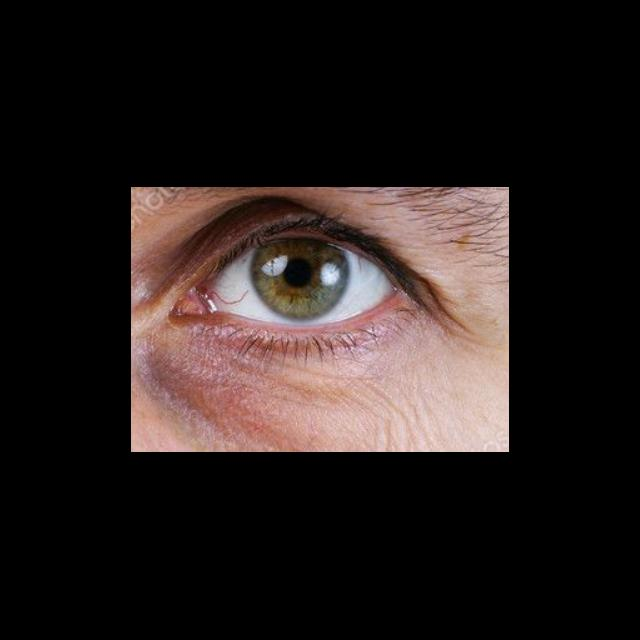eye: (213, 237, 399, 329)
iris: (253, 240, 350, 321)
